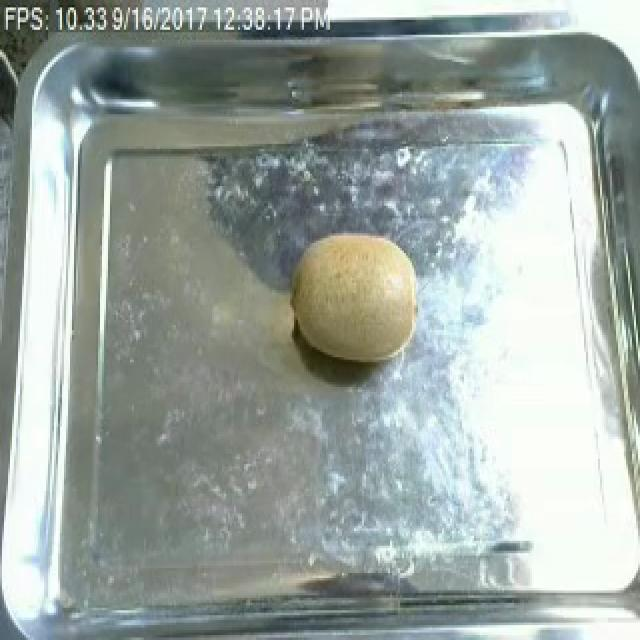Fruit: (284, 226, 426, 370)
